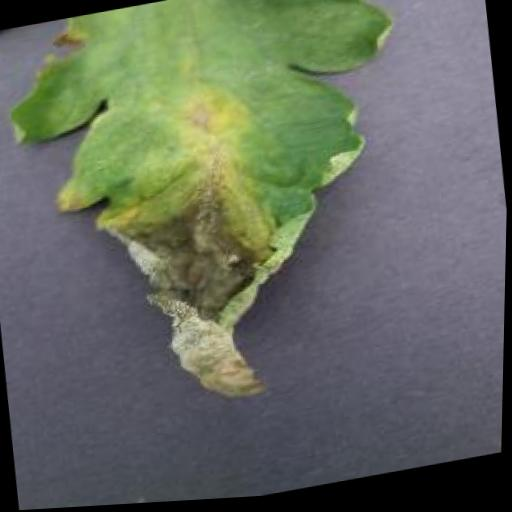Late Blight: (0, 0, 439, 434)
